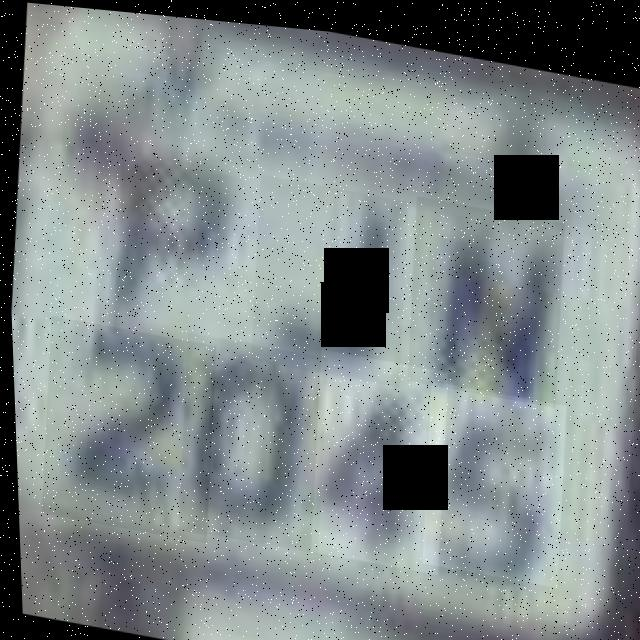0: (168, 327, 331, 550)
2: (31, 313, 219, 541)
4: (301, 341, 451, 567)
5: (412, 371, 569, 577)
J: (242, 168, 412, 380)
N: (399, 186, 568, 398)
P: (75, 136, 233, 355)
